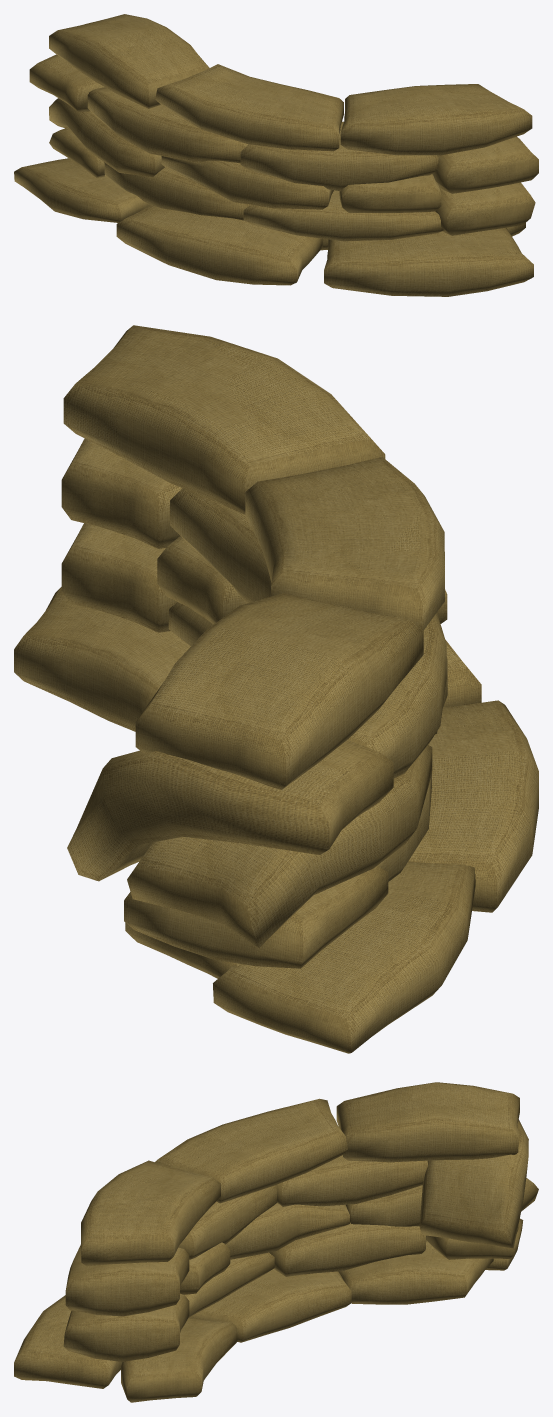
File: SandBag_Corner.FBX
3 views of the same model, one above another, from view 1: azimuth 30°, elevation 25°; view 2: azimuth 150°, elevation 25°; view 3: azimuth 270°, elevation 25° (orthographic). The views are drawn at different scales.
Parts seen in each view (by area): view 1: Sandbag_Corner; view 2: Sandbag_Corner; view 3: Sandbag_Corner.
Part boxes in pixels (box(x1,y1,x2,y2)): Sandbag_Corner: box(14, 14, 538, 296); Sandbag_Corner: box(14, 325, 538, 1053); Sandbag_Corner: box(14, 1082, 538, 1402).
Bounding box in the file's own units: 60.83 × 29.03 × 75.76.
1 material, 1 textured.
